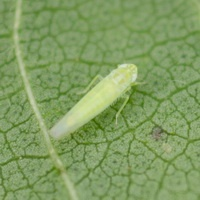insect: (50, 64, 136, 138)
